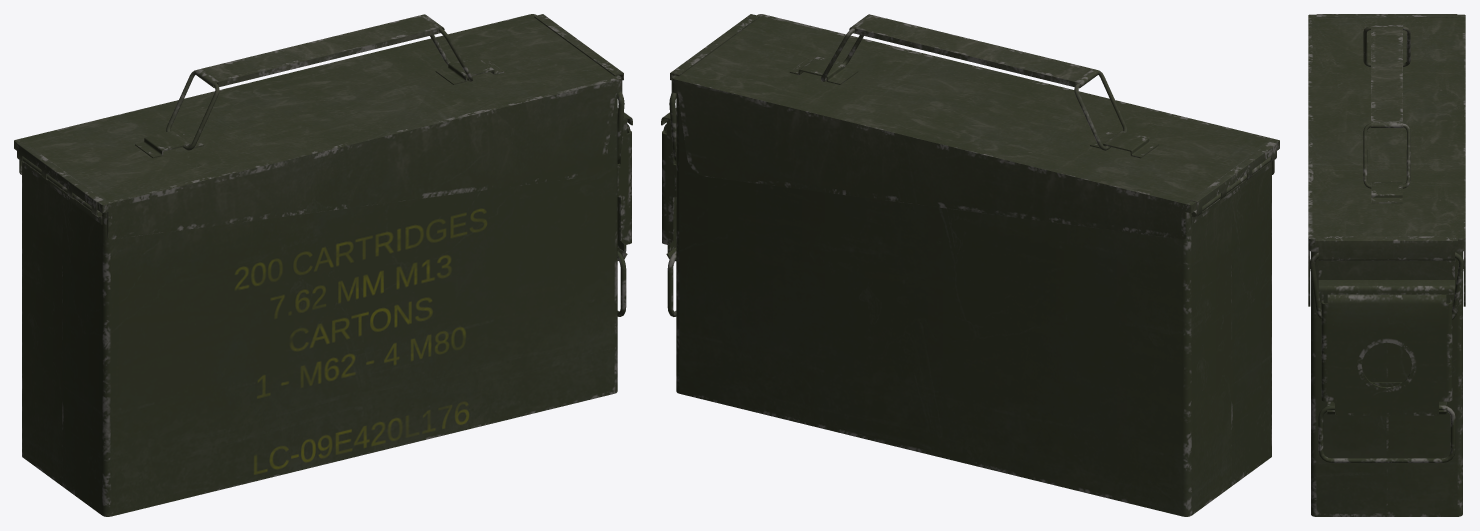
The model's file is Ammo_Tin.glb.
The picture shows the model from 3 angles, left to right: view 1: azimuth 30°, elevation 25°; view 2: azimuth 150°, elevation 25°; view 3: azimuth 270°, elevation 25°; orthographic projection. The views are drawn at different scales.
Parts seen in each view (by area): view 1: Sm_AmmoCase; view 2: Sm_AmmoCase; view 3: Sm_AmmoCase.
Part boxes in pixels (x1,y1,x2,y2): Sm_AmmoCase: [14, 14, 632, 516]; Sm_AmmoCase: [661, 14, 1279, 516]; Sm_AmmoCase: [1308, 14, 1465, 516].
Size of the model in its own units: 0.6651 by 0.4416 by 0.1897.
Materials: 1 (1 with a texture image).
